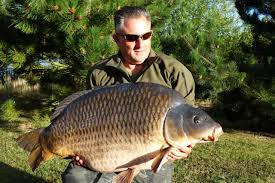carp: (14, 81, 225, 183)
